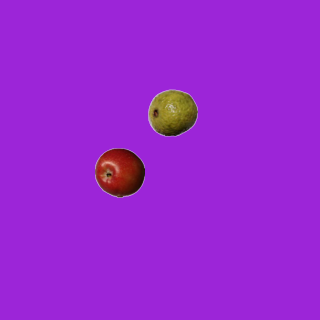Apple Braeburn: (94, 147, 144, 197)
Guava: (147, 87, 197, 137)
